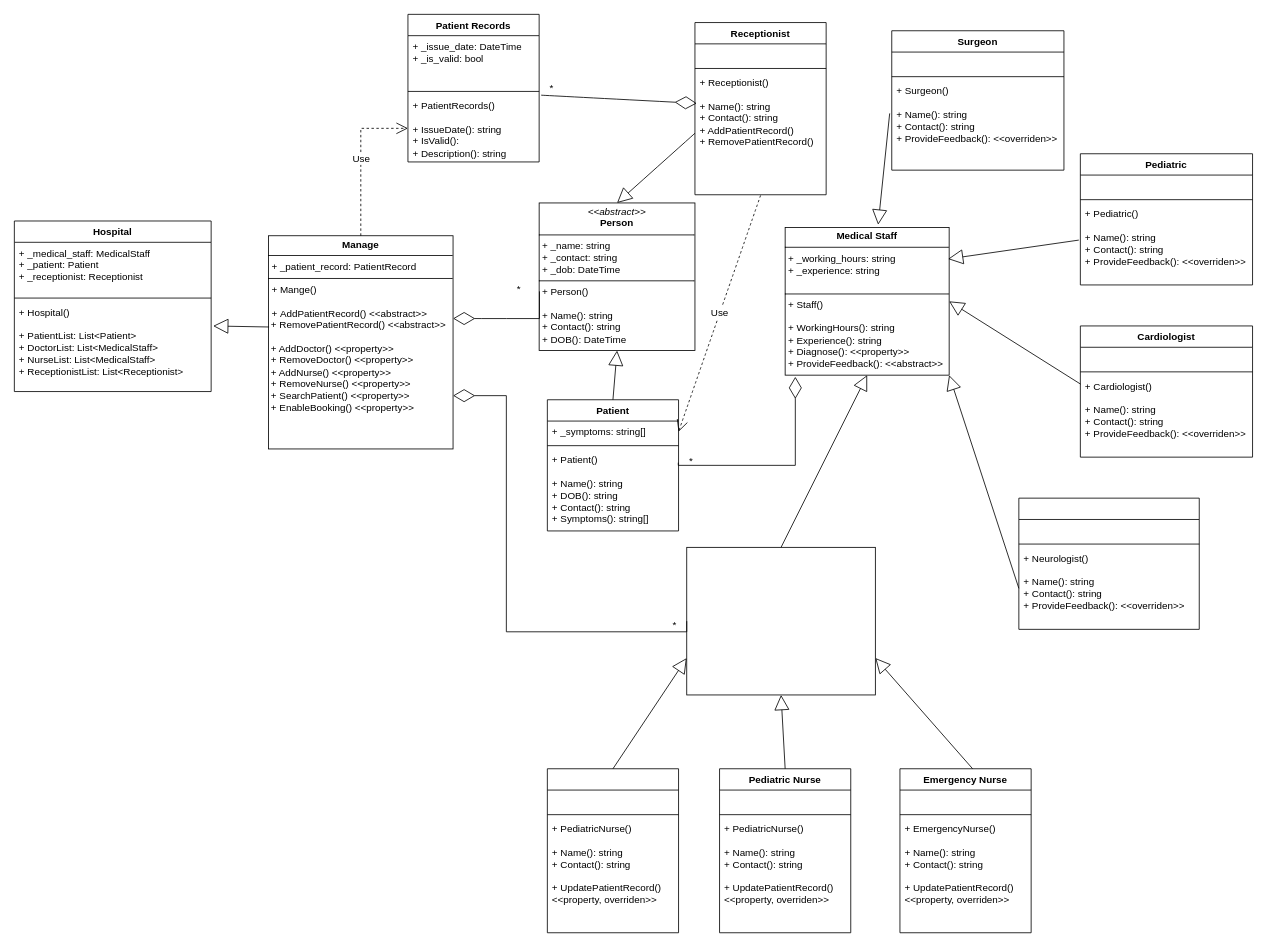
Some shapes in this 1267 by 950 pixel diagram are drawn without their labels. Each missing label, with the box of its shape:
<<abstract>> Nurse + Nurse() + UpdatePatientRecord() <<abstract>>: (686, 547, 875, 695)
Psychologist: (1018, 497, 1199, 629)
Surgical Nurse: (547, 768, 679, 933)
